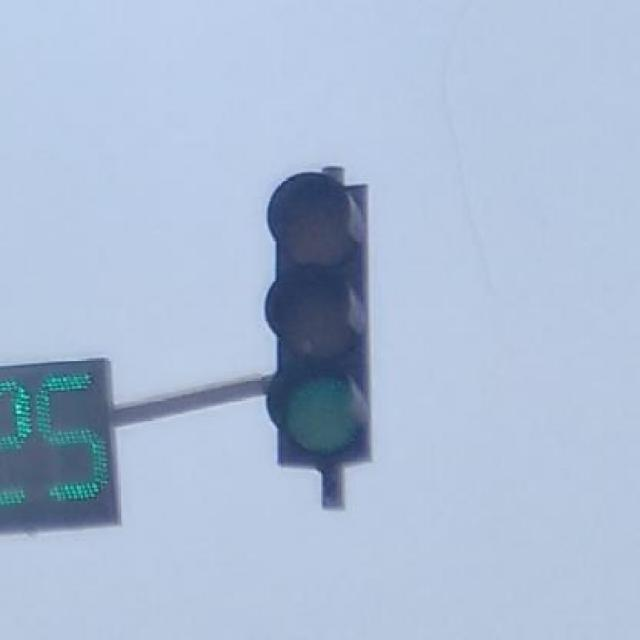traffic light: (271, 182, 369, 468)
